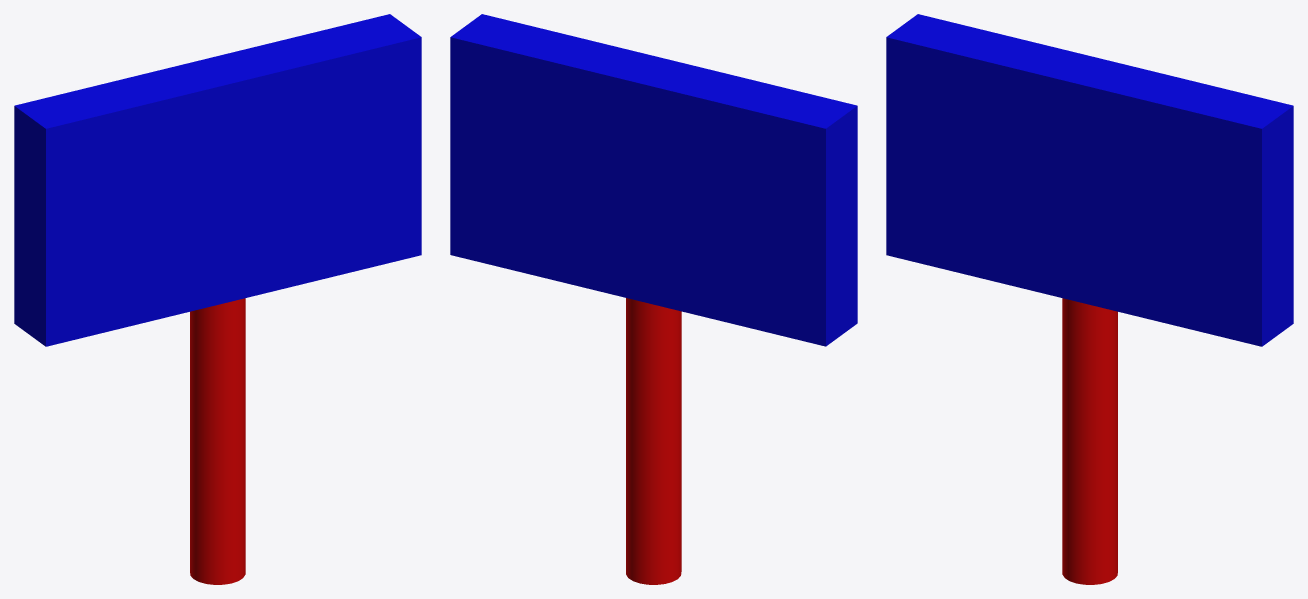
File: Sign.fbx
3 views of the same model, side by side, from view 1: azimuth 30°, elevation 25°; view 2: azimuth 150°, elevation 25°; view 3: azimuth 330°, elevation 25° (orthographic).
Parts seen in each view (by area): view 1: pCube2; view 2: pCube2; view 3: pCube2.
Part boxes in pixels (bbox=[...]): pCube2: bbox=[14, 14, 421, 584]; pCube2: bbox=[450, 14, 857, 584]; pCube2: bbox=[886, 14, 1293, 584].
Size of the model in its own units: 8.79 by 11.21 by 1.28.
